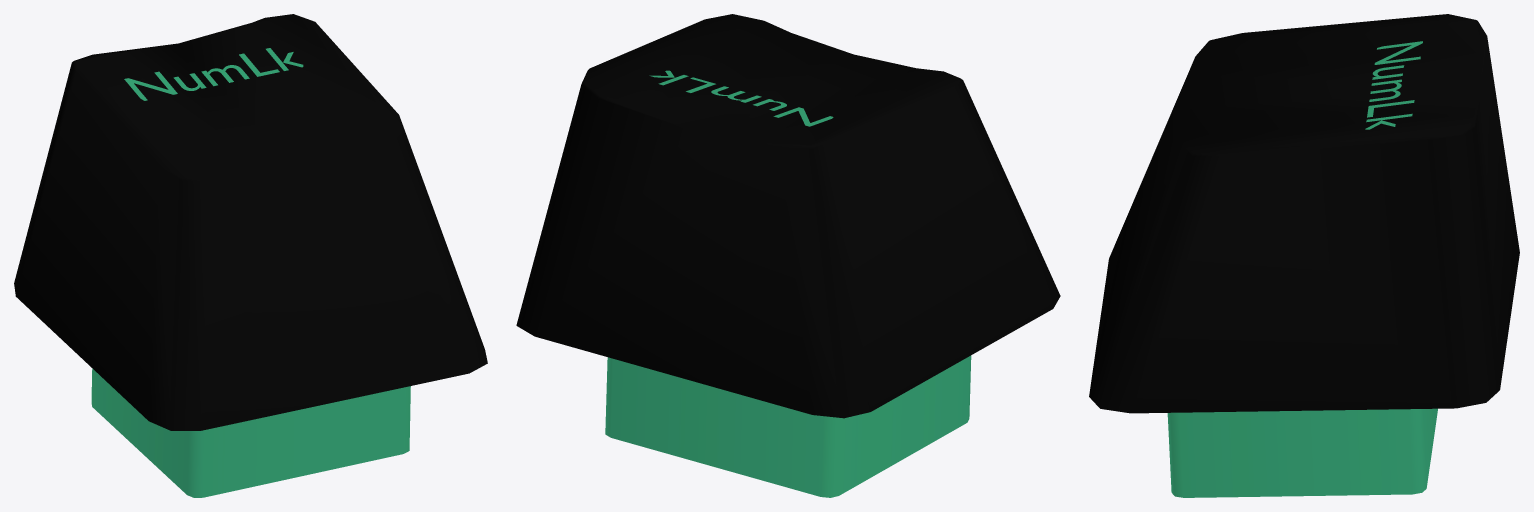
Rendered from key_numlk-BpKoiJKS.glb.
3 views of the same model, side by side, from view 1: azimuth 30°, elevation 25°; view 2: azimuth 150°, elevation 25°; view 3: azimuth 270°, elevation 25° (orthographic). The views are drawn at different scales.
Visible parts, largest first — view 1: StudyShelf_556; view 2: StudyShelf_556; view 3: StudyShelf_556.
Boxes of the visible parts, left/top/right/bottom form: StudyShelf_556: left=14, top=14, right=487, bottom=497; StudyShelf_556: left=516, top=14, right=1060, bottom=497; StudyShelf_556: left=1089, top=14, right=1519, bottom=497.
Size of the model in its own units: 4.35 by 4.14 by 4.35.
Materials: 2 (1 with a texture image).
